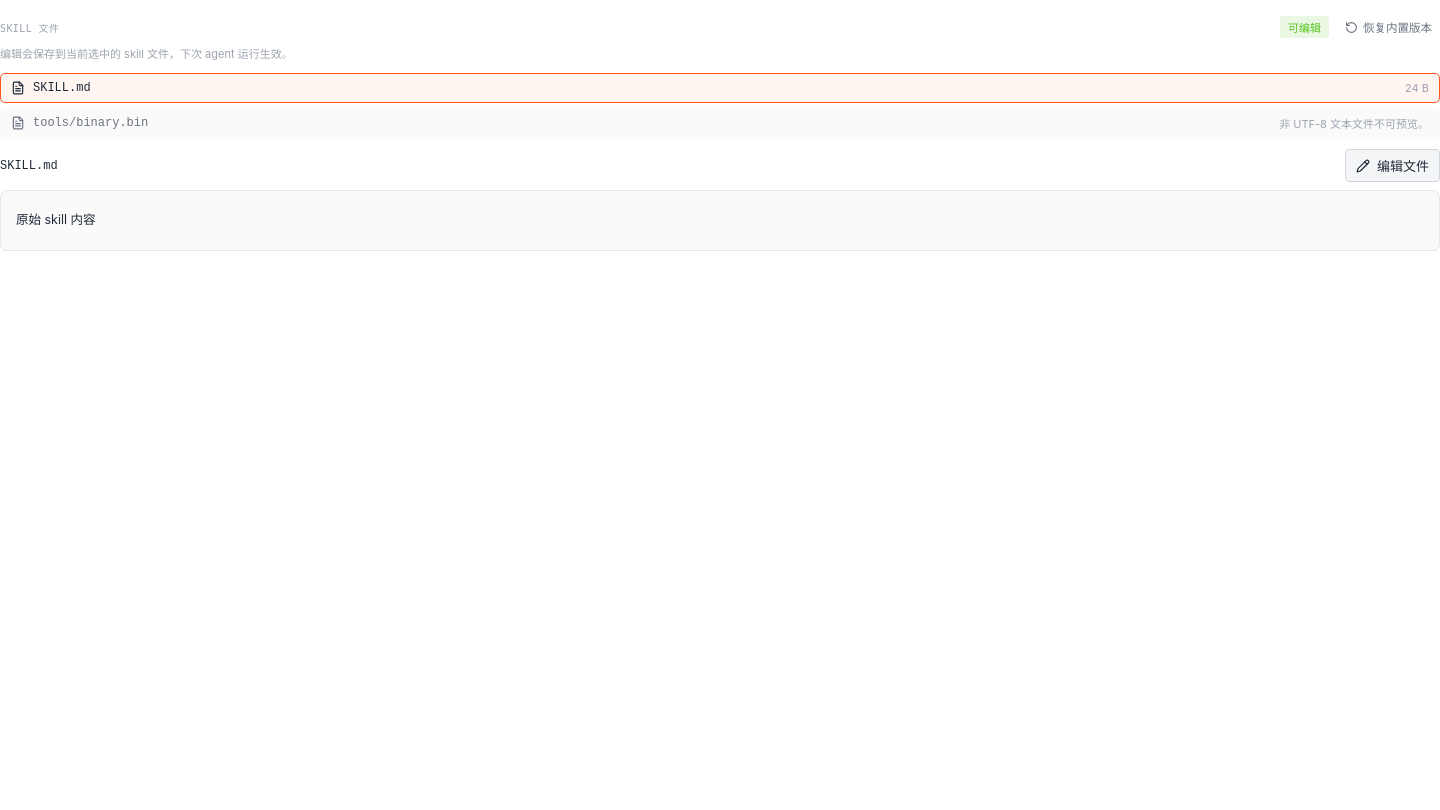
it: SkillFilePreview › disables confirmation when the dry-run plan is empty
Expected: the text "原始 skill 内容" is shown, [16,212,96,227]
Click the button "恢复内置版本": point(1388, 27) [1337,14,1439,40]
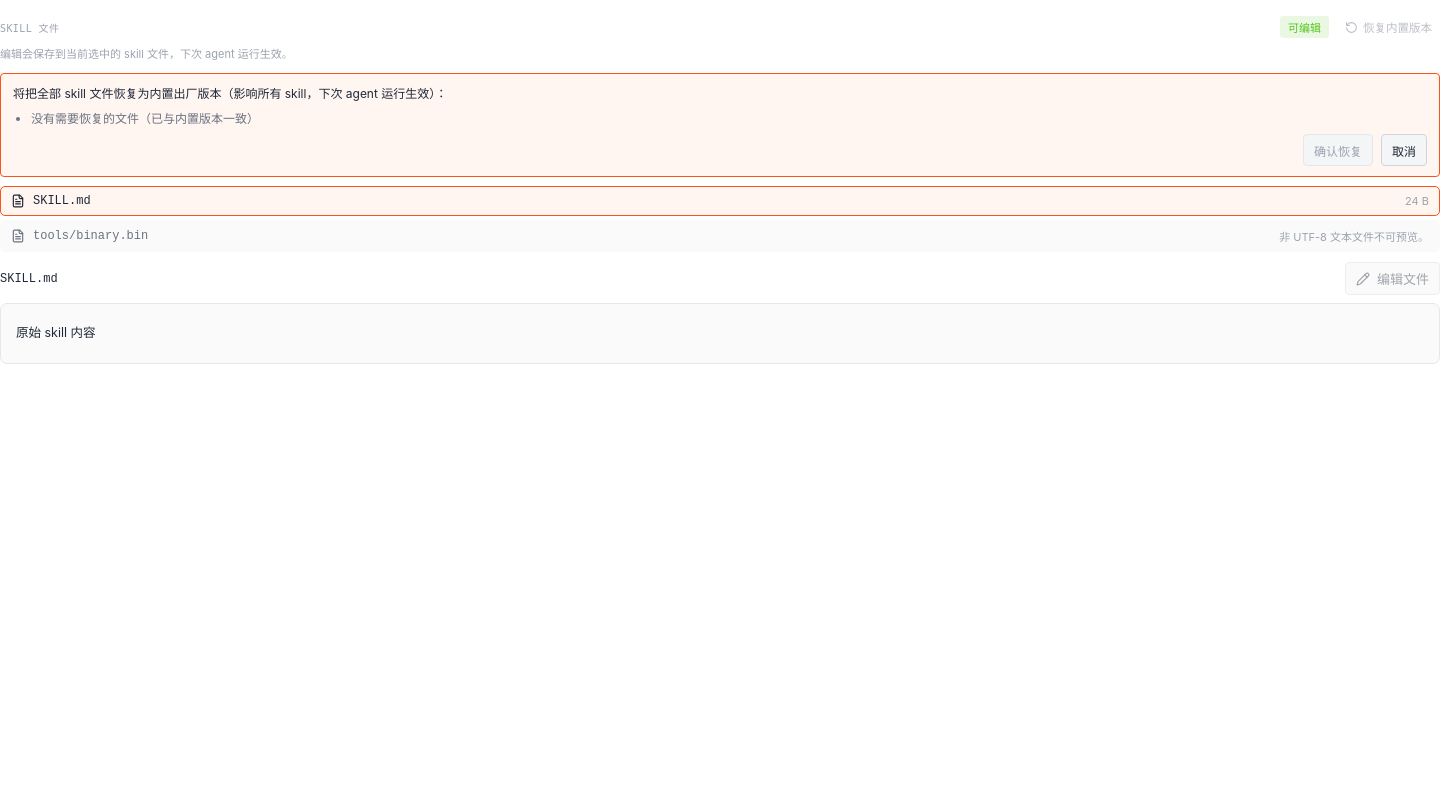
Result: the dialog named "恢复内置版本确认" shows "没有需要恢复的文件（已与内置版本一致）" at [31,111,259,126]
Result: the button "确认恢复" is disabled at [1303,134,1373,166]
